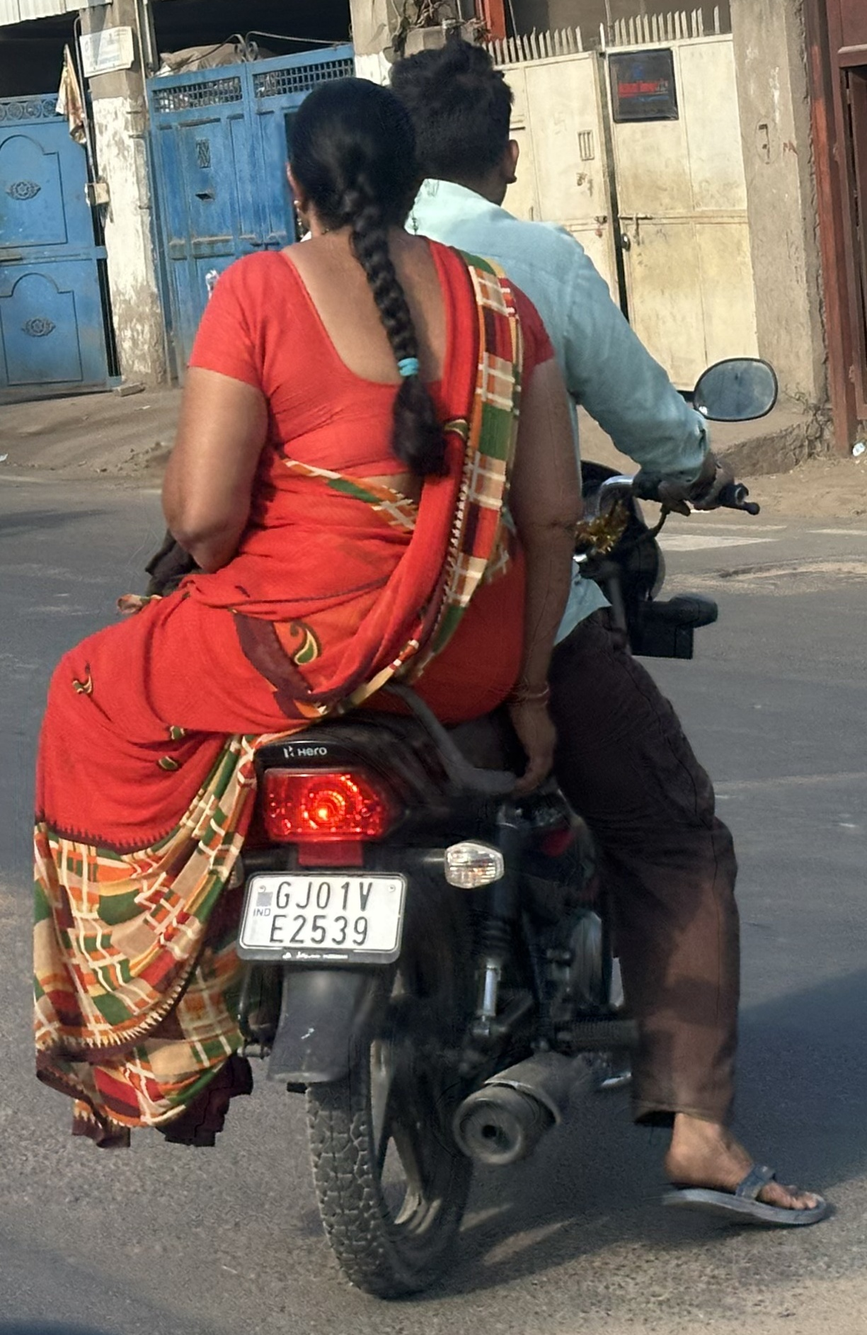BikeWithRider: (29, 36, 834, 1307)
NoHelmet: (277, 74, 425, 246), (386, 44, 520, 218)
